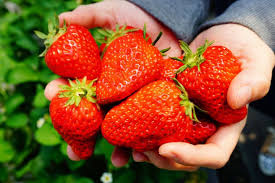ripe: (101, 76, 196, 149), (175, 39, 250, 126), (94, 26, 161, 110), (49, 88, 105, 160), (43, 23, 107, 79), (175, 108, 222, 144), (146, 50, 187, 84)
